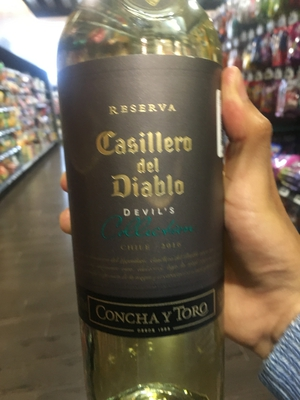casillero del diablo devils collection verde: (52, 22, 226, 398)
